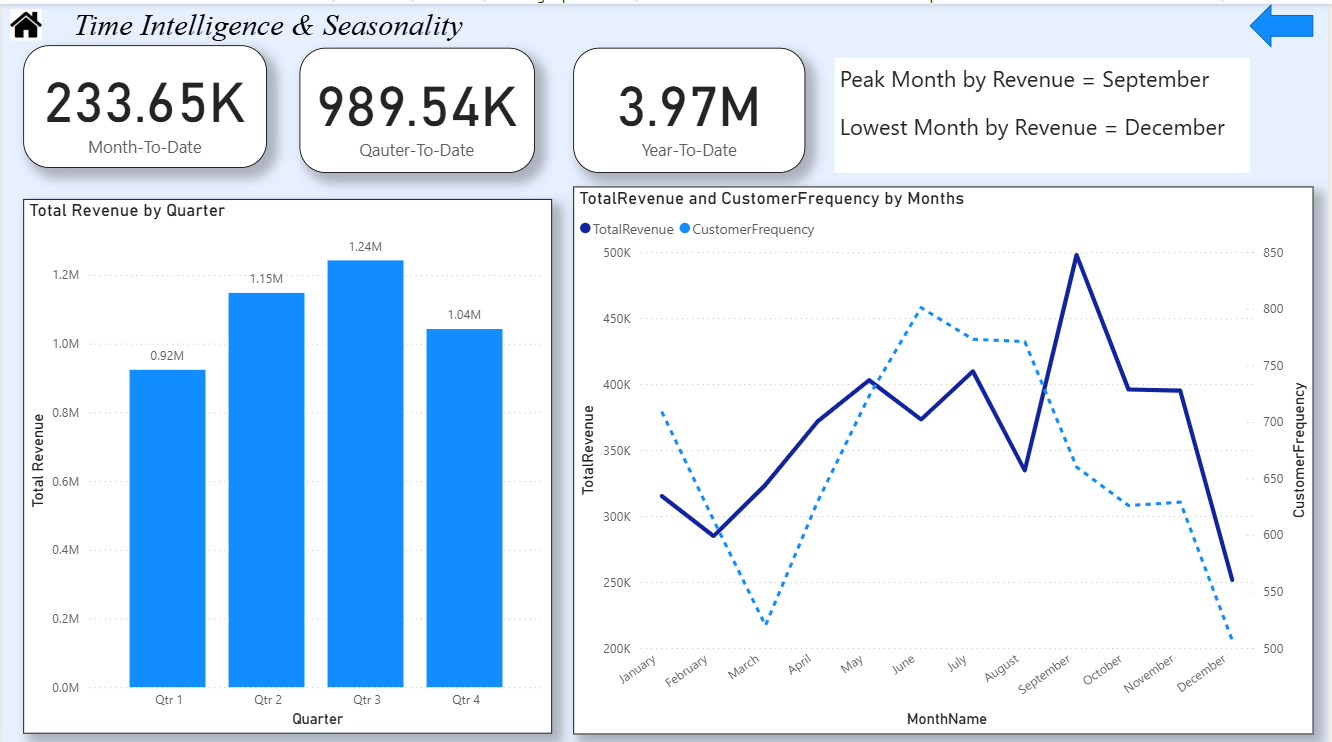

This screenshot's page, from the dashboard's own definition file:
{"tool":"powerbi","page":{"name":"Time Intelligence & Seasonality","canvas":[1280,720],"ordinal":4},"visuals":[{"type":"card","fields":{"Values":["Measure.YTD"]},"box":[551.3,42.2,224.4,120.6],"z":0},{"type":"card","fields":{"Values":["Measure.QTD"]},"box":[287.1,42.2,226.8,120.6],"z":1000},{"type":"card","fields":{"Values":["Measure.#MTD"]},"box":[20.5,39.8,235.3,118.2],"z":2000},{"type":"columnChart","title":"Total Revenue by Quarter","fields":{"Category":["Dim_Date.Date.Variation.Date Hierarchy.Quarter"],"Y":["Measure.#TotalRevenue"]},"box":[20.5,188.2,510.3,516.4],"z":3000},{"type":"shape","box":[1204,0,61.5,42.2],"z":4000},{"type":"image","box":[0,0,45.8,39.8],"z":5000},{"type":"shape","box":[45.8,0,422.3,39.8],"z":6000},{"type":"lineChart","title":"TotalRevenue and CustomerFrequency by Months","fields":{"Category":["Dim_Date.MonthName"],"Y":["Measure.#TotalRevenue"],"Y2":["Measure.#CustomerFrequency"]},"box":[551.3,176.1,714.2,528.4],"z":7000},{"type":"textbox","box":[803.6,51.6,400.4,111.3],"z":8000}]}

Visuals, with their boxes in screenshot pixels (x1, y1, x2, y2), scaled from the page's 1280x720 canvas onto the 1332x742 screenshot:
card - Measure.YTD: bbox(574, 43, 807, 168)
card - Measure.QTD: bbox(299, 43, 535, 168)
card - Measure.#MTD: bbox(21, 41, 266, 163)
"Total Revenue by Quarter" columnChart: bbox(21, 194, 552, 726)
shape: bbox(1253, 0, 1317, 43)
image: bbox(0, 0, 48, 41)
shape: bbox(48, 0, 487, 41)
"TotalRevenue and CustomerFrequency by Months" lineChart: bbox(574, 181, 1317, 726)
textbox: bbox(836, 53, 1253, 168)
